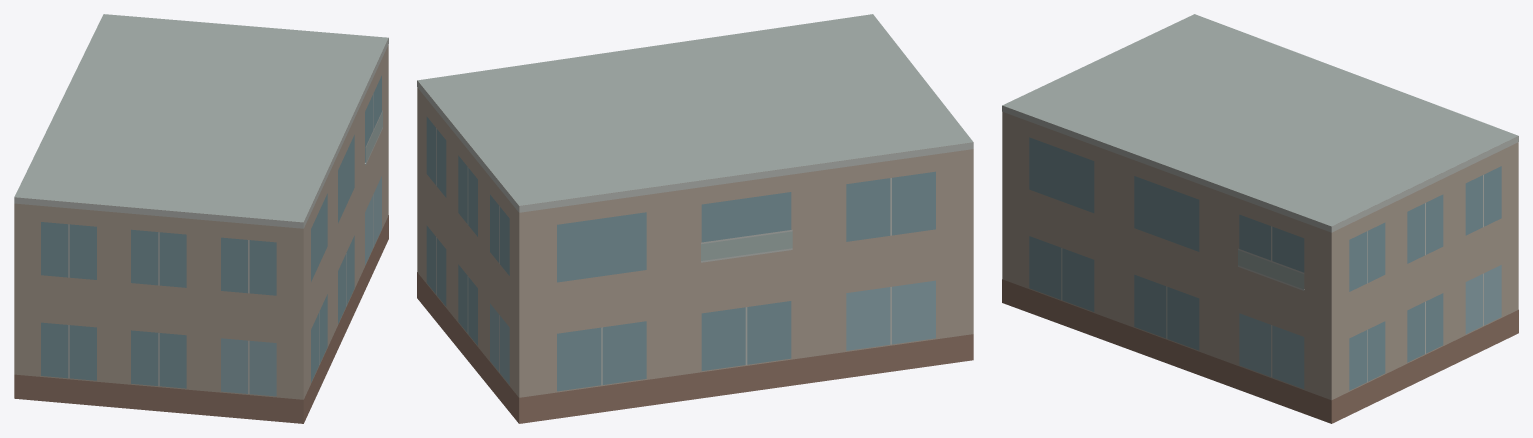
File: survey-upis-32625097.glb
3 renders of one model, left to right at view 1: azimuth 30°, elevation 25°; view 2: azimuth 150°, elevation 25°; view 3: azimuth 270°, elevation 25°, orthographic. The views are drawn at different scales.
Parts seen in each view (by area): view 1: survey-upis-32625097.tmp; view 2: survey-upis-32625097.tmp; view 3: survey-upis-32625097.tmp.
Part boxes in pixels (x1,y1,x2,y2): survey-upis-32625097.tmp: (14,14,388,423); survey-upis-32625097.tmp: (417,14,973,423); survey-upis-32625097.tmp: (1002,14,1518,423).
Size of the model in its own units: 18.02 by 7.8 by 18.51.
